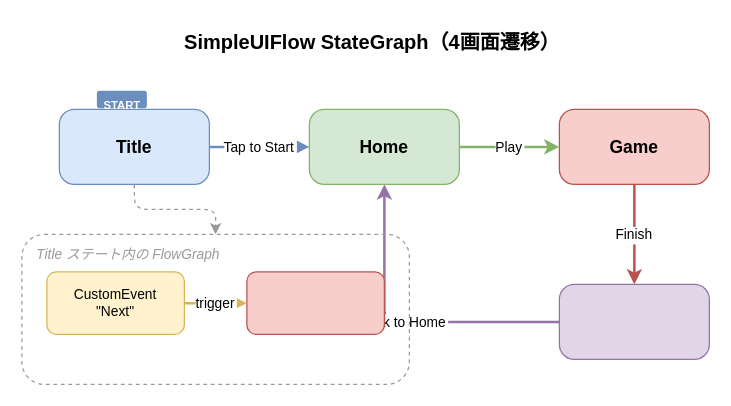
This 731x406 diagram has some shape labels left out. Each missing label, with the box of its shape:
Result: (558, 283, 709, 359)
TriggerState Transition: (246, 271, 384, 334)
